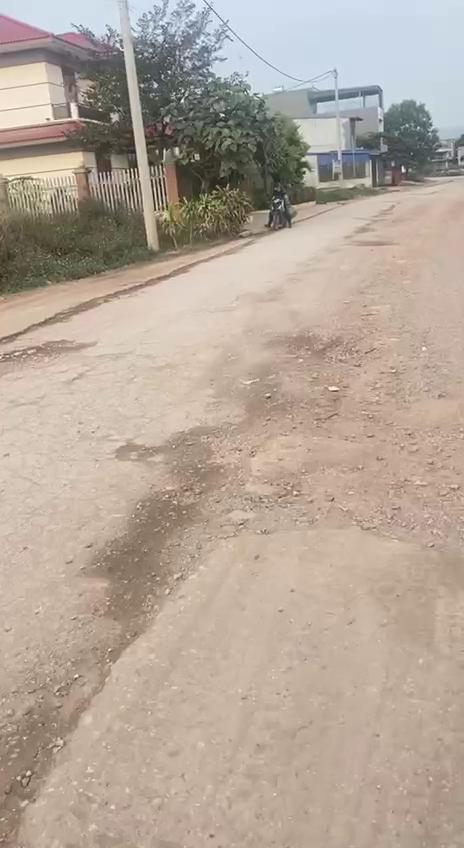pothole: (99, 457, 464, 618), (252, 320, 448, 438), (0, 334, 92, 365)
